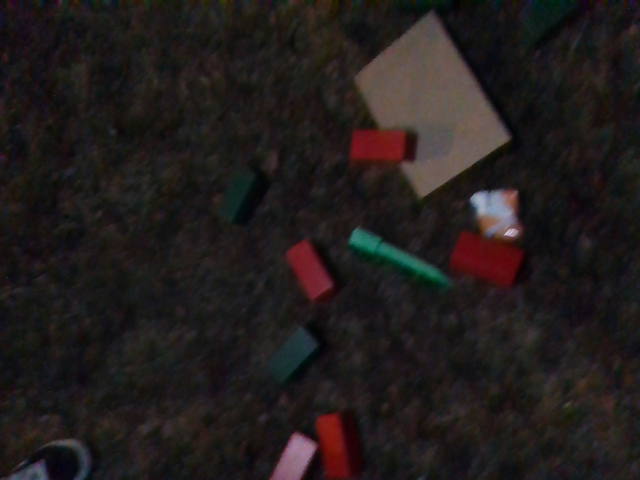Probe: (348, 222, 453, 287)
